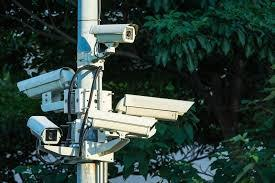tutu: (85, 107, 159, 141), (117, 90, 196, 121), (13, 64, 81, 99), (25, 111, 63, 148), (89, 21, 142, 45)
